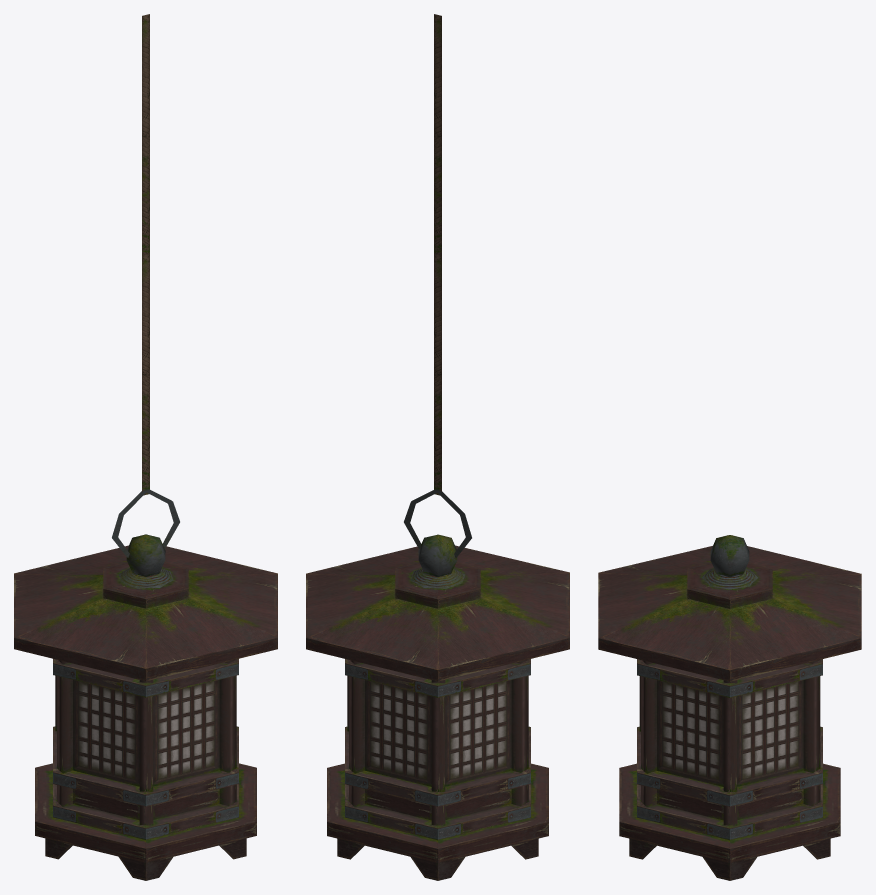
The model's file is i_zx_xiaodiaodeng01_lod1.FBX.
3 views of the same model, side by side, from view 1: azimuth 30°, elevation 25°; view 2: azimuth 150°, elevation 25°; view 3: azimuth 270°, elevation 25° (orthographic).
Parts seen in each view (by area): view 1: i_zx_xiaodiaodeng01_lod1; view 2: i_zx_xiaodiaodeng01_lod1; view 3: i_zx_xiaodiaodeng01_lod1.
Part boxes in pixels (x1=…): i_zx_xiaodiaodeng01_lod1: x1=14, y1=14, x2=277, y2=880; i_zx_xiaodiaodeng01_lod1: x1=306, y1=14, x2=569, y2=880; i_zx_xiaodiaodeng01_lod1: x1=598, y1=535, x2=861, y2=880.
Bounding box in the file's own units: 0.6766 × 0.5859 × 2.
